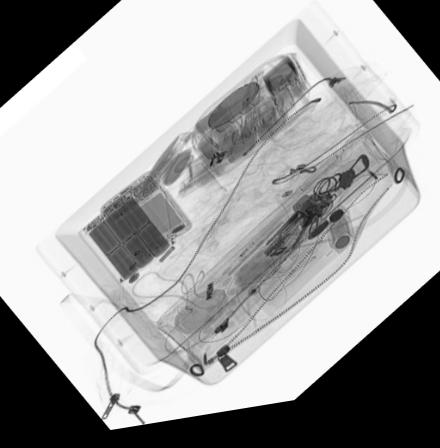Powerbank: (74, 188, 176, 292)
